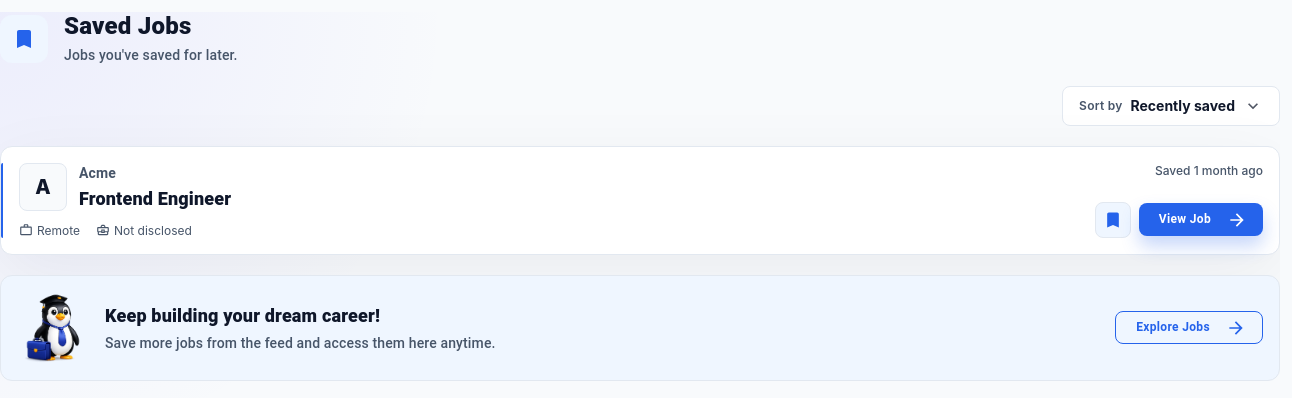
Test case: SavedJobsPage › unsaves a job optimistically and shows a toast
Expected: the heading "Frontend Engineer" is shown, [79,188,231,210]
Step 1. Click the button named "unsave frontend engineer" → (1113, 220), box [1095,202,1131,238]
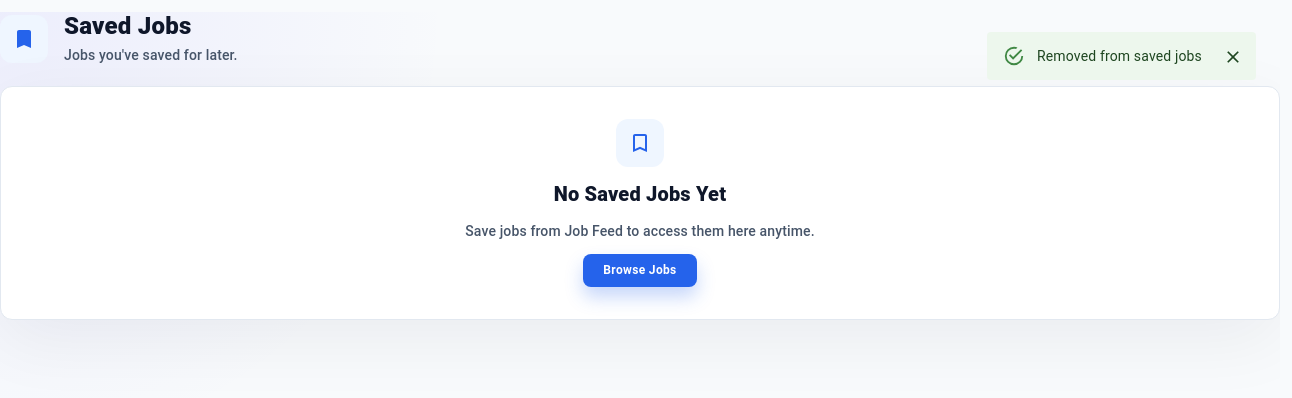
Result: the text "Removed from saved jobs" is shown at [1037,48,1202,64]
Result: the button "Frontend Engineer" is gone
